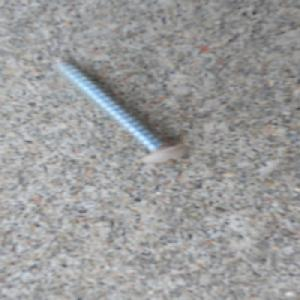Screw: (48, 54, 194, 166)
